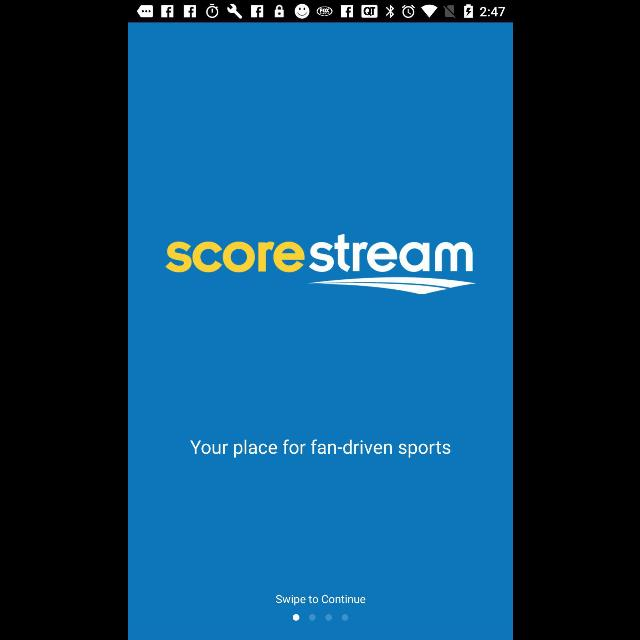image: (164, 233, 476, 295)
pageindicator: (292, 614, 348, 622)
text: (190, 439, 450, 458), (275, 594, 365, 606)
uppertaskbar: (128, 1, 512, 23)
